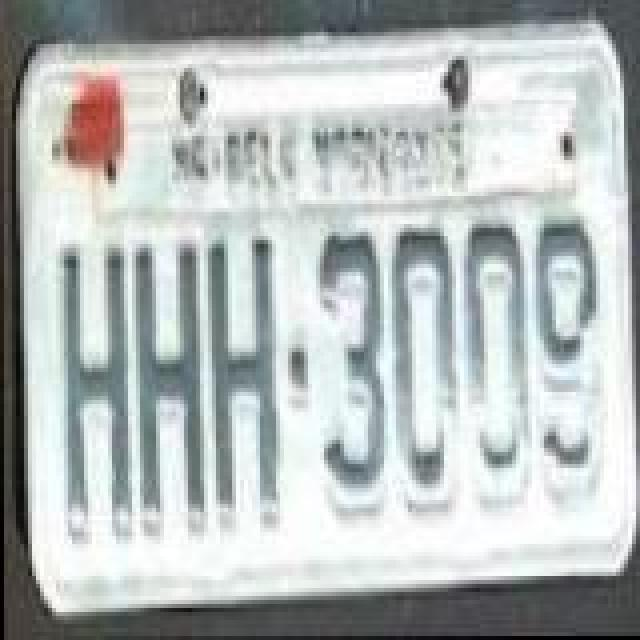3: (318, 230, 390, 518)
9: (534, 216, 606, 504)
H: (134, 232, 206, 544), (58, 242, 130, 542), (206, 236, 278, 528)
O: (462, 222, 534, 510), (392, 224, 460, 516)
